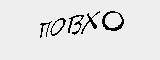В: (66, 10, 83, 36)
О: (100, 10, 123, 33), (51, 15, 69, 37)
П: (37, 19, 52, 41)
Х: (82, 10, 101, 34)
